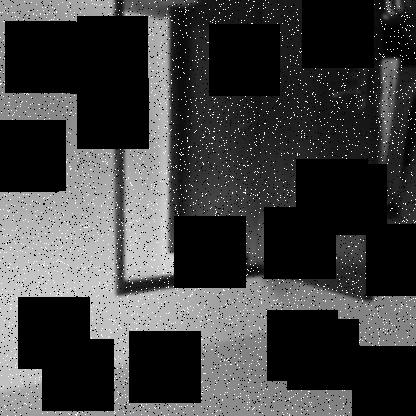Porte: (111, 0, 389, 303)
